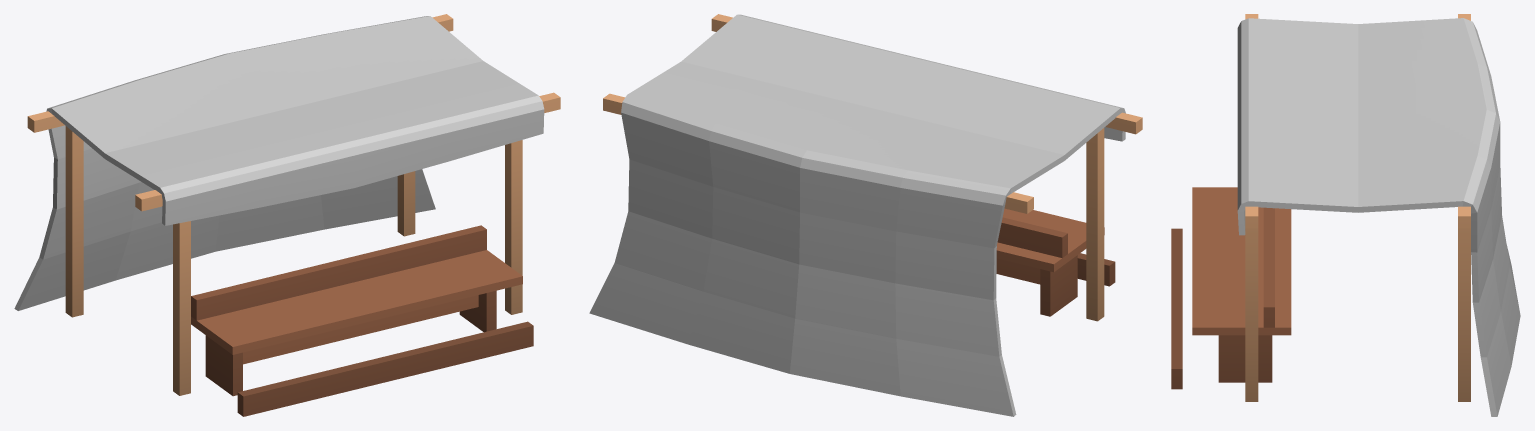
Rendered from food-tent.glb.
3 views of the same model, side by side, from view 1: azimuth 30°, elevation 25°; view 2: azimuth 150°, elevation 25°; view 3: azimuth 270°, elevation 25° (orthographic). The views are drawn at different scales.
Parts seen in each view (by area): view 1: food tent; view 2: food tent; view 3: food tent.
Boxes of the visible parts, x1,y1,x2,y2 form: food tent: (14, 14, 560, 416); food tent: (589, 14, 1142, 416); food tent: (1171, 14, 1520, 416).
Size of the model in its own units: 4.67 by 2.25 by 3.4.
1 material, 1 textured.
